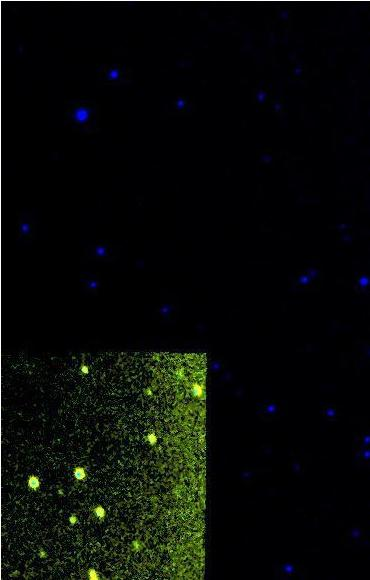star: (28, 540, 58, 570)
